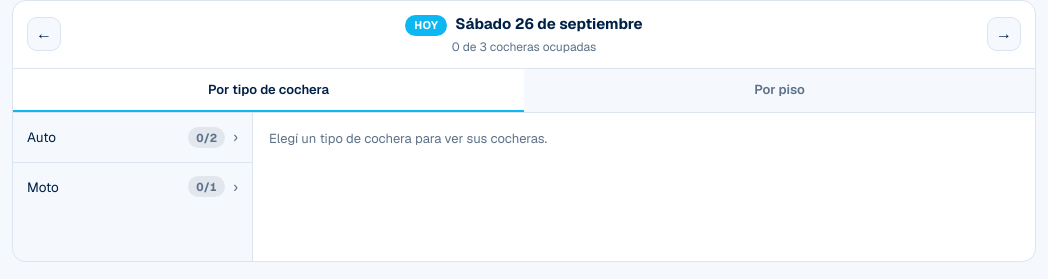
Test: OcupacionCocheras: los grupos › la pestaña por piso agrupa los mismos datos por sector
What coordinates should you click on to do the following:
click the tab "Por piso"
I would click on:
 (780, 90)
Its box is [524,68,1035,112].
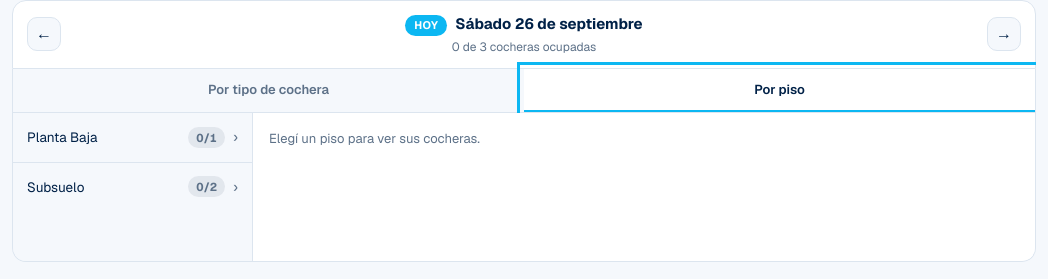
Check: the button "Planta Baja 0/1 ›" is shown, box [13,113,252,162]
Check: the button "Subsuelo 0/2 ›" is shown, box [13,162,252,211]
